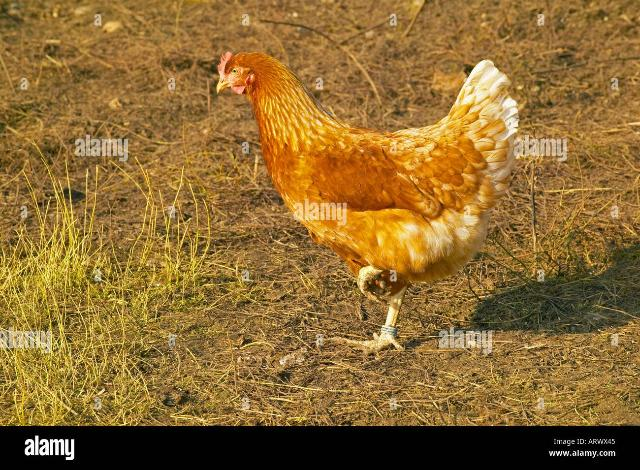Chicken: (218, 51, 519, 352)
